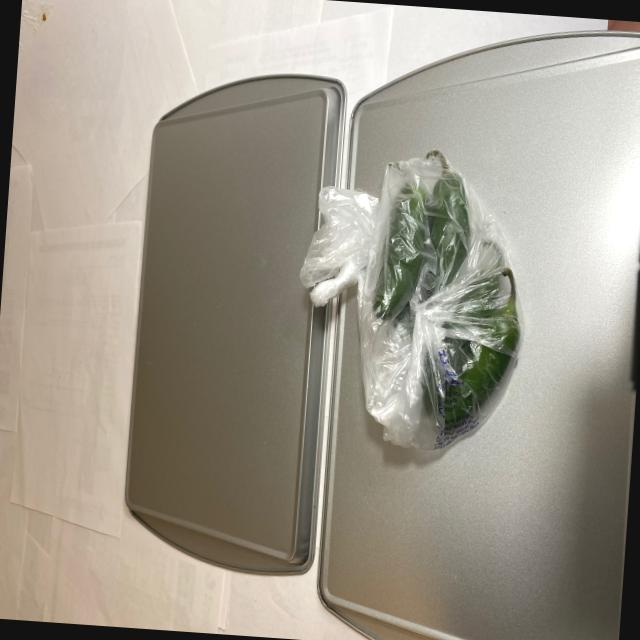chilli: (344, 138, 538, 460)
